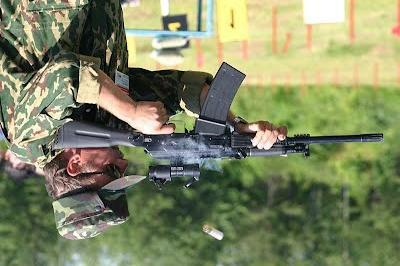larga: (58, 61, 385, 191)
